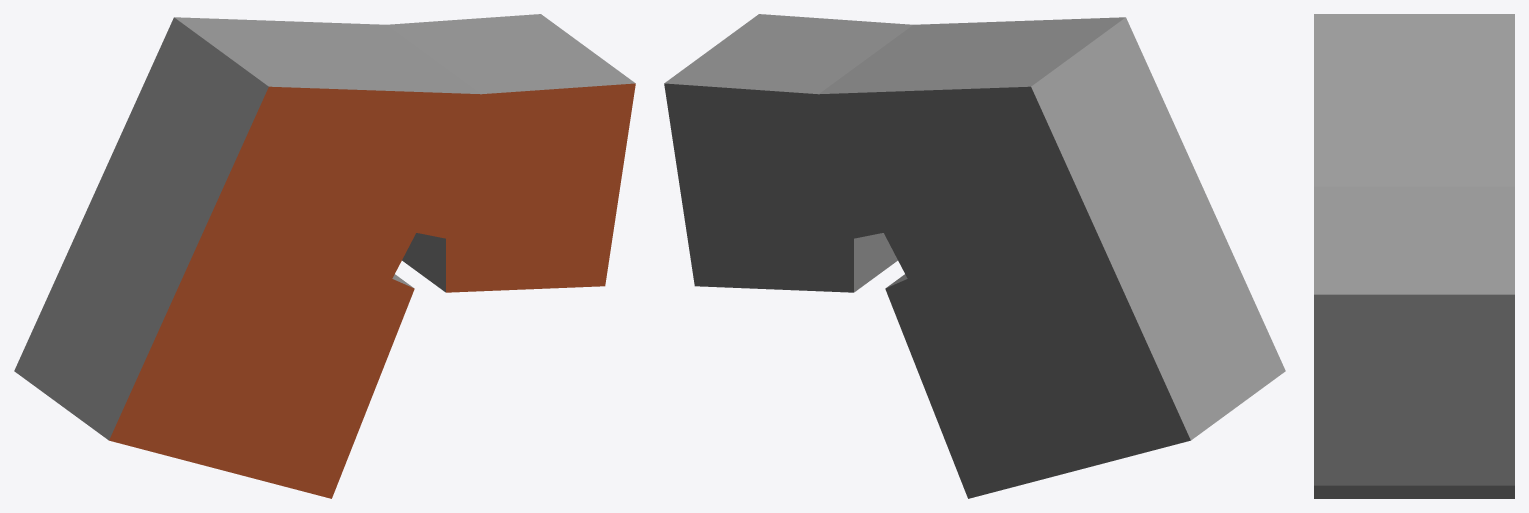
File: construction_4983_assumed_A_Casa_h6m.obj
3 views of the same model, side by side, from view 1: azimuth 30°, elevation 25°; view 2: azimuth 150°, elevation 25°; view 3: azimuth 270°, elevation 25° (orthographic). The views are drawn at different scales.
Visible parts, largest first — view 1: construction_4983_assumed_A_Casa; view 2: construction_4983_assumed_A_Casa; view 3: construction_4983_assumed_A_Casa.
Boxes of the visible parts, x1,y1,x2,y2 form: construction_4983_assumed_A_Casa: (14, 14, 635, 498); construction_4983_assumed_A_Casa: (664, 14, 1285, 498); construction_4983_assumed_A_Casa: (1314, 14, 1514, 498).
Bounding box in the file's own units: 19.23 × 14.92 × 6.
